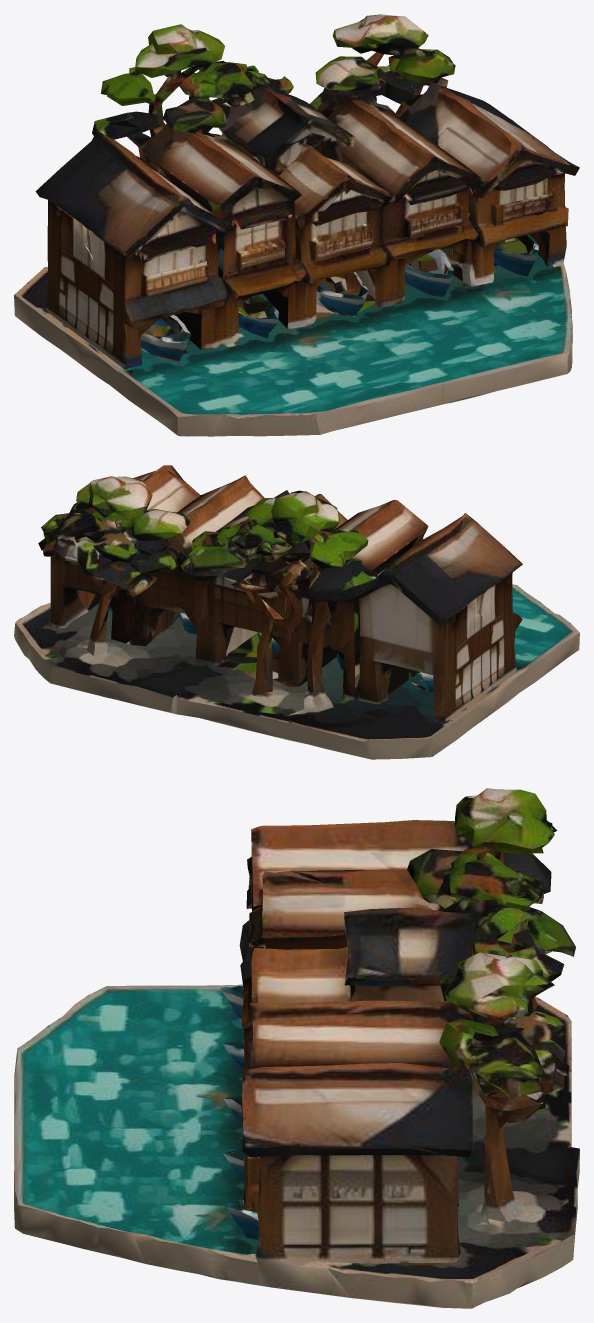
File: ine-funaya.glb
3 renders of one model, top to bottom at view 1: azimuth 30°, elevation 25°; view 2: azimuth 150°, elevation 25°; view 3: azimuth 270°, elevation 25°, orthographic. The views are drawn at different scales.
Visible parts, largest first — view 1: logan-textured.obj; view 2: logan-textured.obj; view 3: logan-textured.obj.
Part boxes in pixels (box(x1,y1,x2,y2)): logan-textured.obj: box(14, 14, 579, 436); logan-textured.obj: box(14, 465, 579, 759); logan-textured.obj: box(14, 788, 579, 1308).
Bounding box in the file's own units: 1 × 0.4949 × 0.8034.
1 material, 1 textured.
